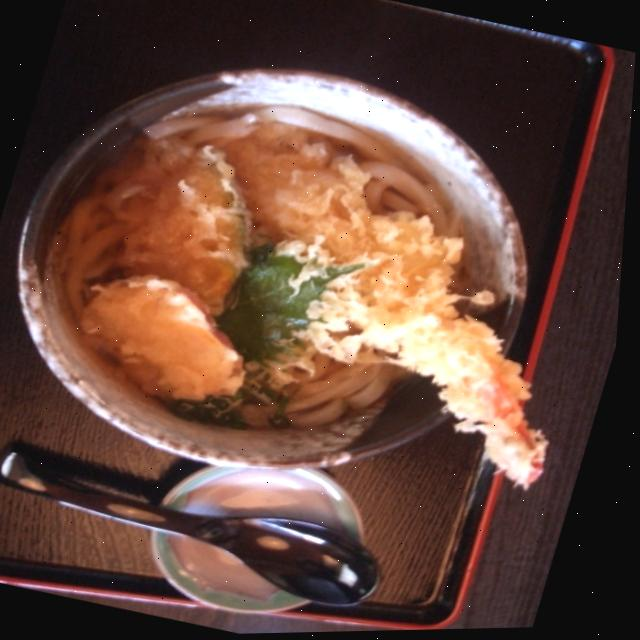面条主食: (0, 56, 636, 511)
